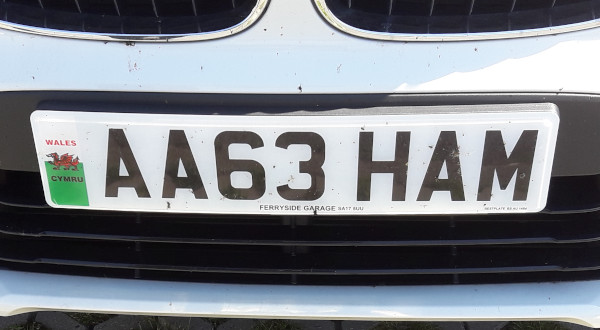license_plate: (29, 110, 558, 216)
